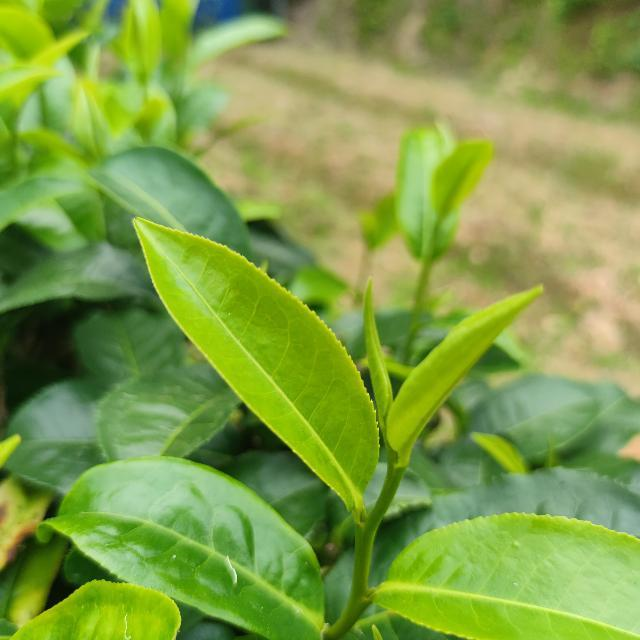Stem: (388, 469, 401, 484)
